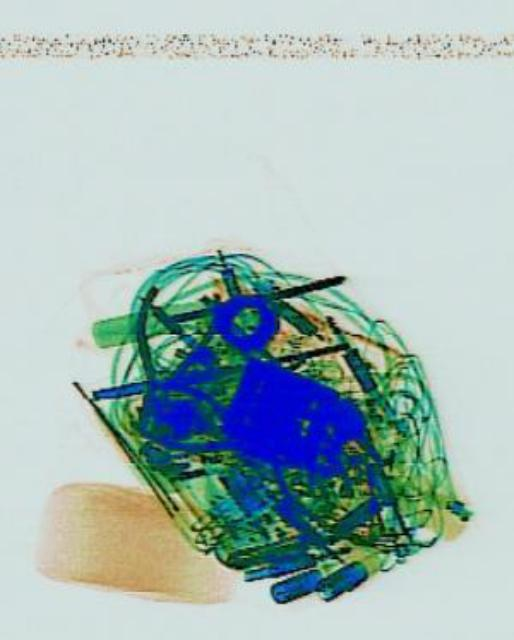Pliers: (100, 262, 223, 440), (133, 372, 250, 468)
